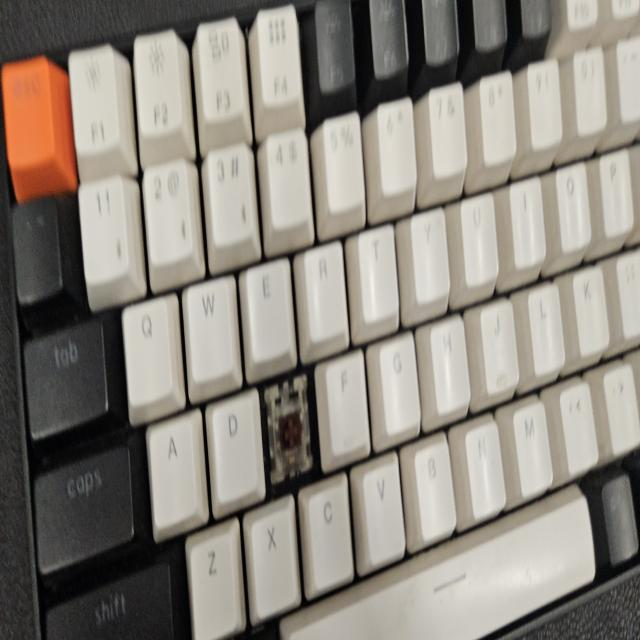C: (269, 384, 312, 476)
